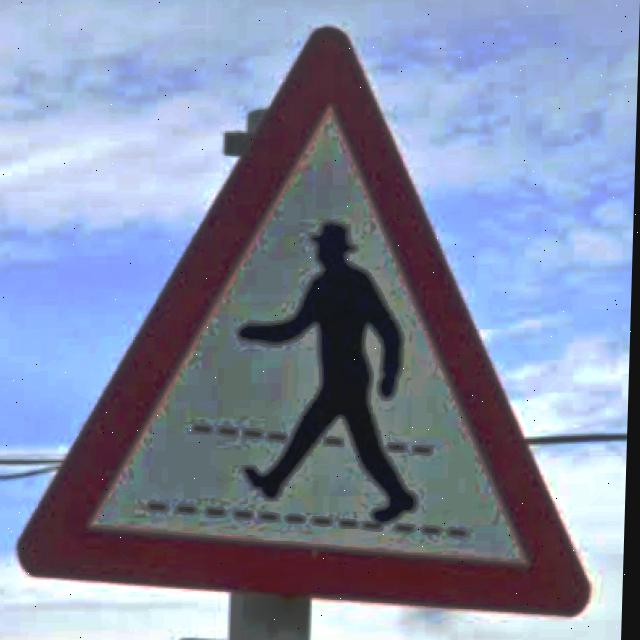pedestriancross: (22, 28, 595, 616)
